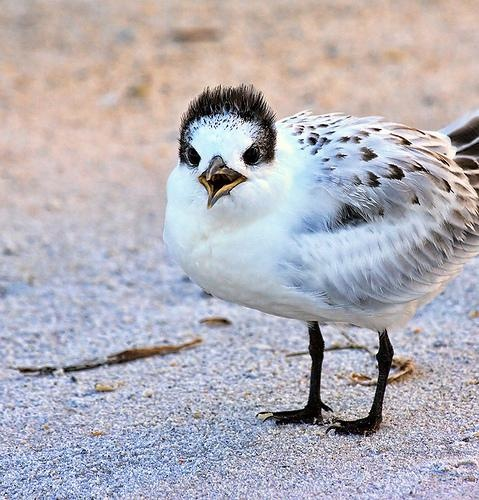bird: (164, 78, 479, 441)
